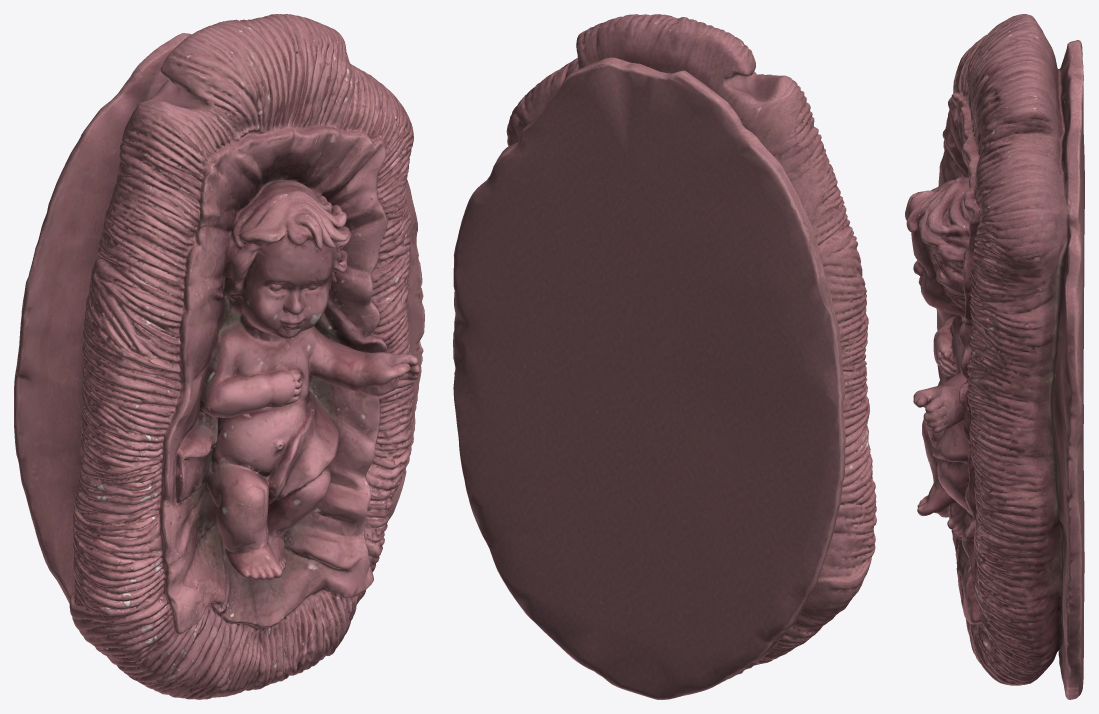
File: obra-02-nino-jesus.glb
3 renders of one model, left to right at view 1: azimuth 30°, elevation 25°; view 2: azimuth 150°, elevation 25°; view 3: azimuth 270°, elevation 25°, orthographic. The views are drawn at different scales.
Bounding box in the file's own units: 1.19 × 1.9 × 0.4788.
1 material, 1 textured.
